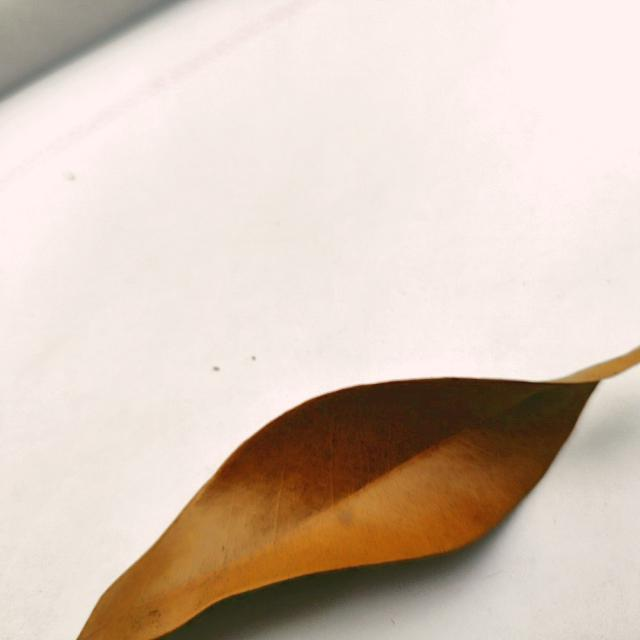Dry_Leaf-Lychee: (76, 348, 639, 639)
